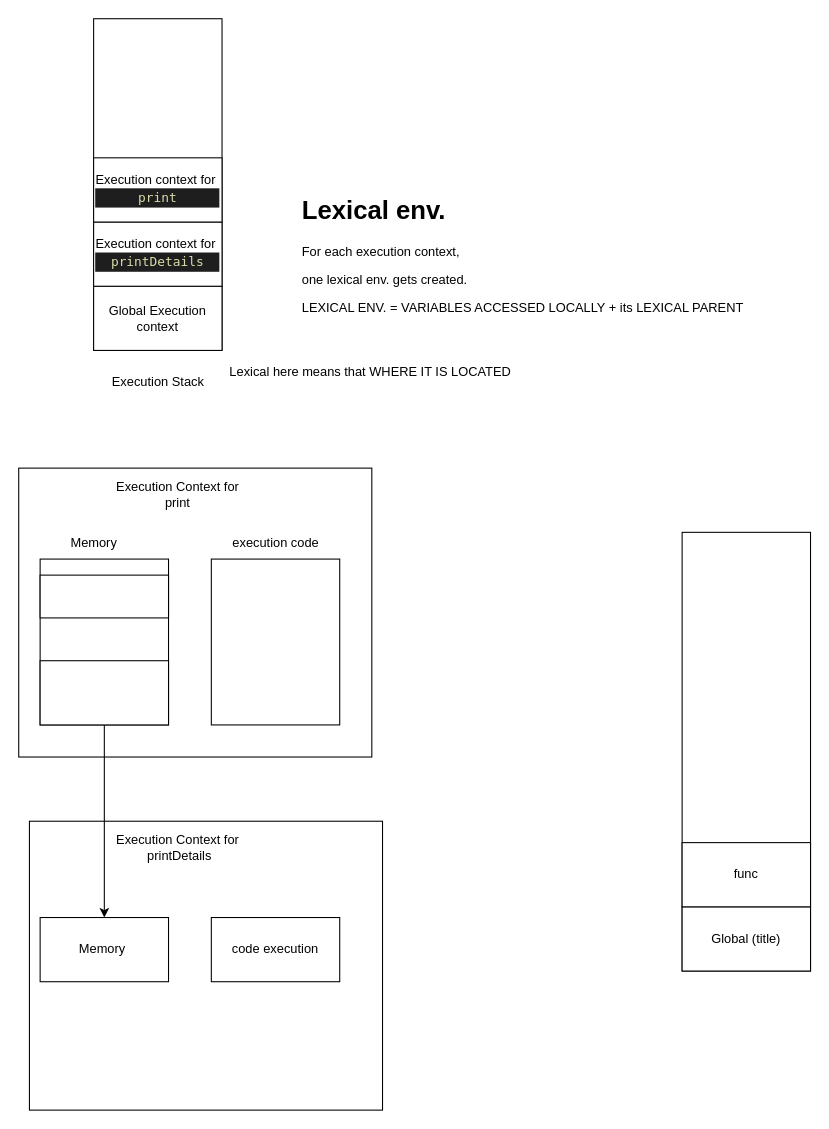
Some shapes in this 829 by 1129 pixel diagram are drawn without their labels. The shapes that lost their labels are listed below. From the top down, each one's centre as x and y in pixels, then its label:
(104,596): LOCAL VARIABLES
(104,692): Reference to variables of lexical parent
